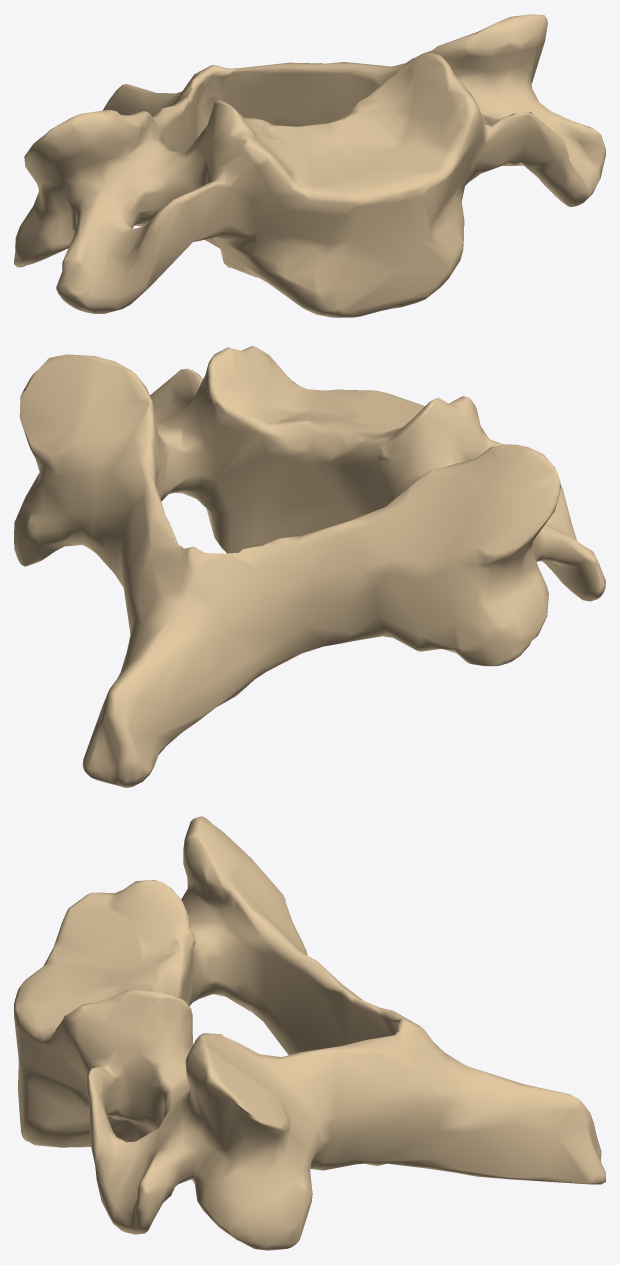
Rendered from explorar-cervical_vertebra.glb.
The picture shows the model from 3 angles, top to bottom: view 1: azimuth 30°, elevation 25°; view 2: azimuth 150°, elevation 25°; view 3: azimuth 270°, elevation 25°; orthographic projection. The views are drawn at different scales.
Parts seen in each view (by area): view 1: cervical_vertebra__cuerpo, cervical_vertebra__apofisis_transversas, cervical_vertebra__foramenes_transversos, cervical_vertebra__arco, cervical_vertebra__apofisis_espinosa; view 2: cervical_vertebra__arco, cervical_vertebra__apofisis_transversas, cervical_vertebra__apofisis_espinosa, cervical_vertebra__cuerpo, cervical_vertebra__foramenes_transversos; view 3: cervical_vertebra__apofisis_transversas, cervical_vertebra__arco, cervical_vertebra__cuerpo, cervical_vertebra__apofisis_espinosa, cervical_vertebra__foramenes_transversos.
Boxes of the visible parts, <box> form: cervical_vertebra__cuerpo: <box>187,53,485,317</box>; cervical_vertebra__apofisis_transversas: <box>14,14,605,313</box>; cervical_vertebra__foramenes_transversos: <box>99,78,584,288</box>; cervical_vertebra__arco: <box>135,32,478,226</box>; cervical_vertebra__apofisis_espinosa: <box>102,65,243,138</box>; cervical_vertebra__arco: <box>68,369,433,678</box>; cervical_vertebra__apofisis_transversas: <box>14,354,605,666</box>; cervical_vertebra__apofisis_espinosa: <box>82,528,286,787</box>; cervical_vertebra__cuerpo: <box>183,346,488,537</box>; cervical_vertebra__foramenes_transversos: <box>150,368,576,582</box>; cervical_vertebra__apofisis_transversas: <box>95,816,318,1250</box>; cervical_vertebra__arco: <box>179,887,436,1170</box>; cervical_vertebra__cuerpo: <box>14,880,186,1147</box>; cervical_vertebra__apofisis_espinosa: <box>353,1011,605,1184</box>; cervical_vertebra__foramenes_transversos: <box>80,890,202,1204</box>.
Size of the model in its own units: 0.0557 by 0.0243 by 0.0512.
